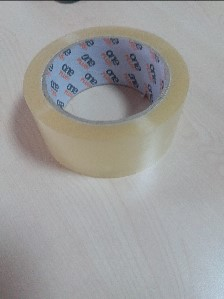band: (23, 23, 196, 180)
